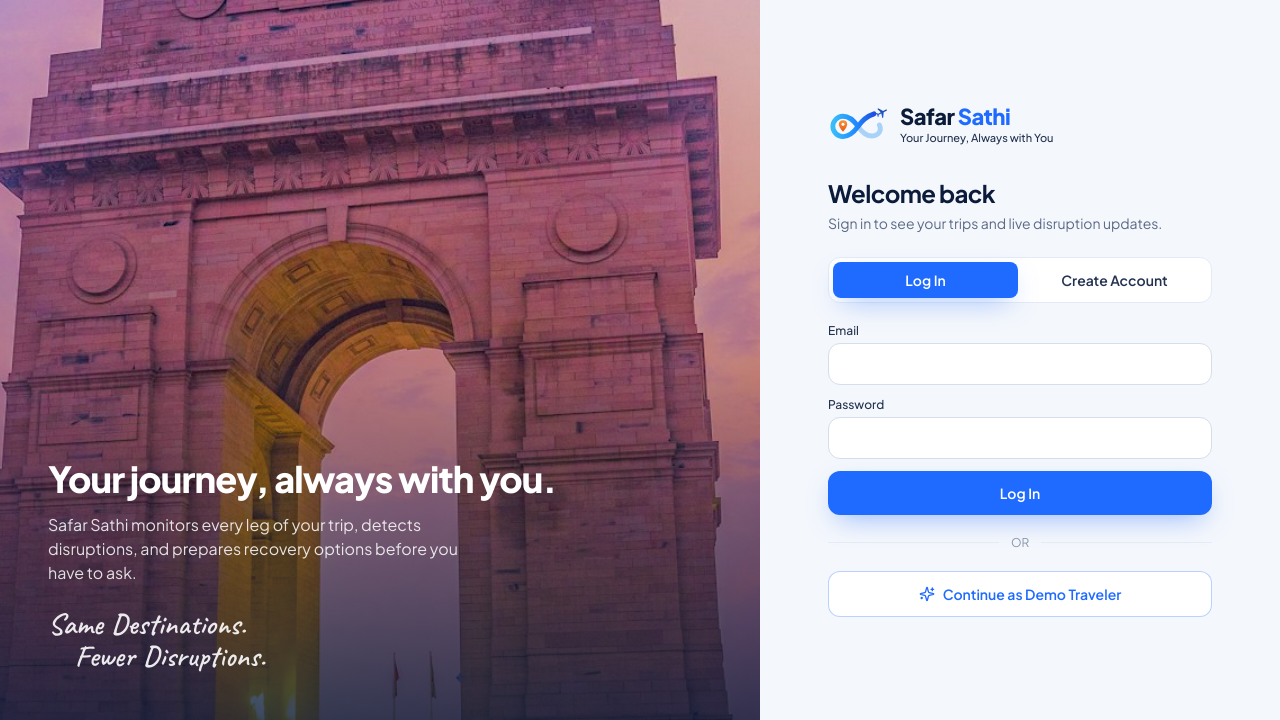
Test: LoginScreen demo traveler › explains production mode when the backend has no seeded demo account
This screenshot has width=1280, height=720.
Click the button "Continue as Demo Traveler".
click(1020, 594)  # box [828,571,1212,617]
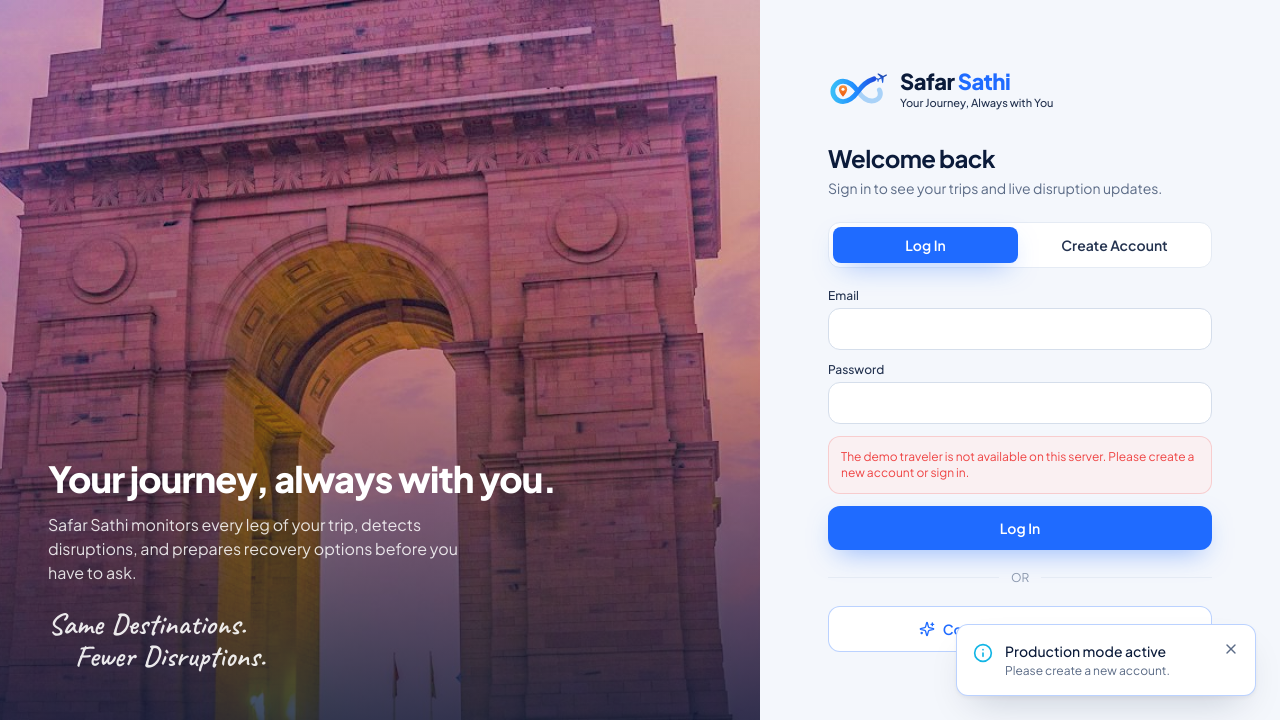
Now the text "Production mode active" is shown, box [1005,642,1166,660]
Now the message shows "The demo traveler is not available on this server. Please create a new account or sign in.", box [841,449,1194,480]
